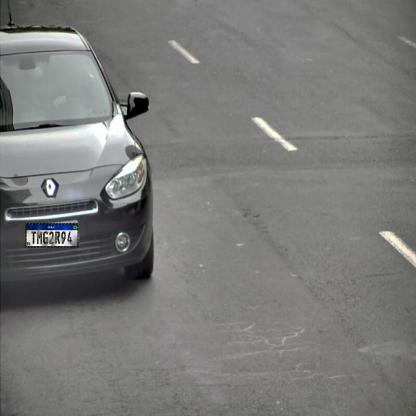PlacaM: (26, 223, 78, 248)
